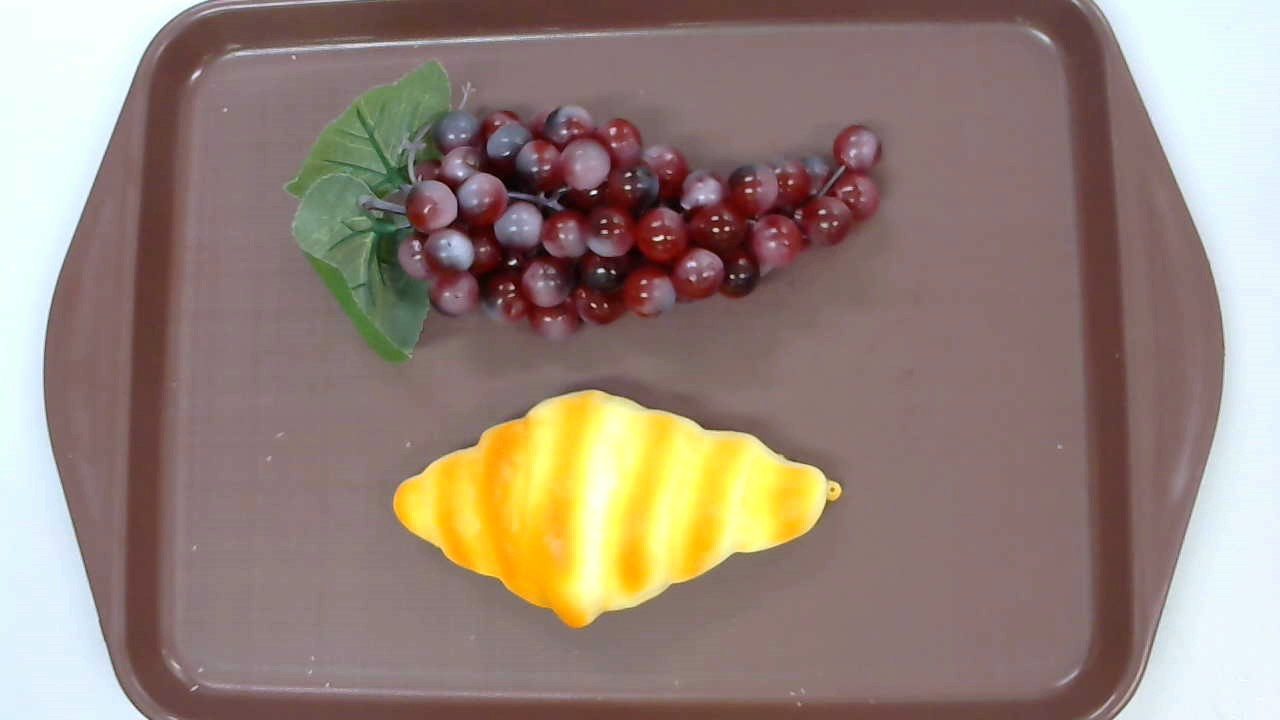croissant: (393, 389, 842, 629)
grape: (282, 59, 882, 369)
